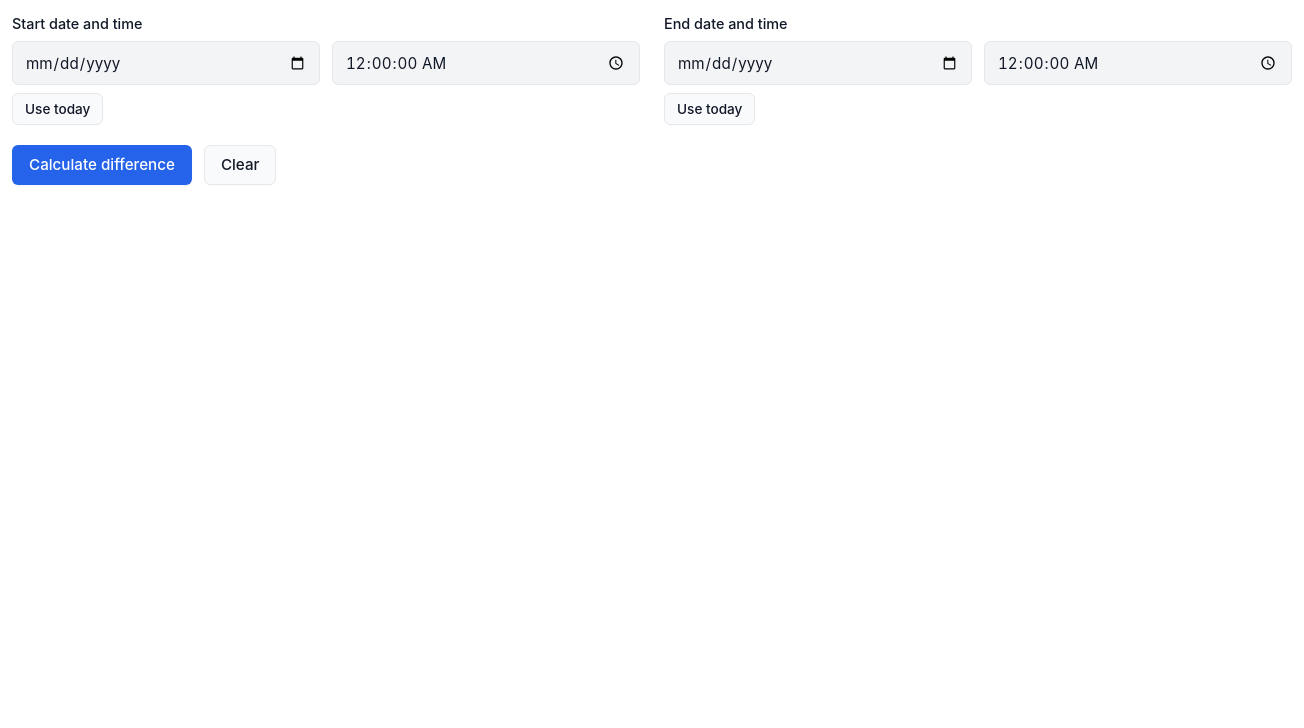
Scenario: Date Difference Calculator › is zero for the same date
Type "2026-09-21" into the date field named "Start date and time date".
click(166, 63); type("2026-09-21")  # box [12,41,320,85]
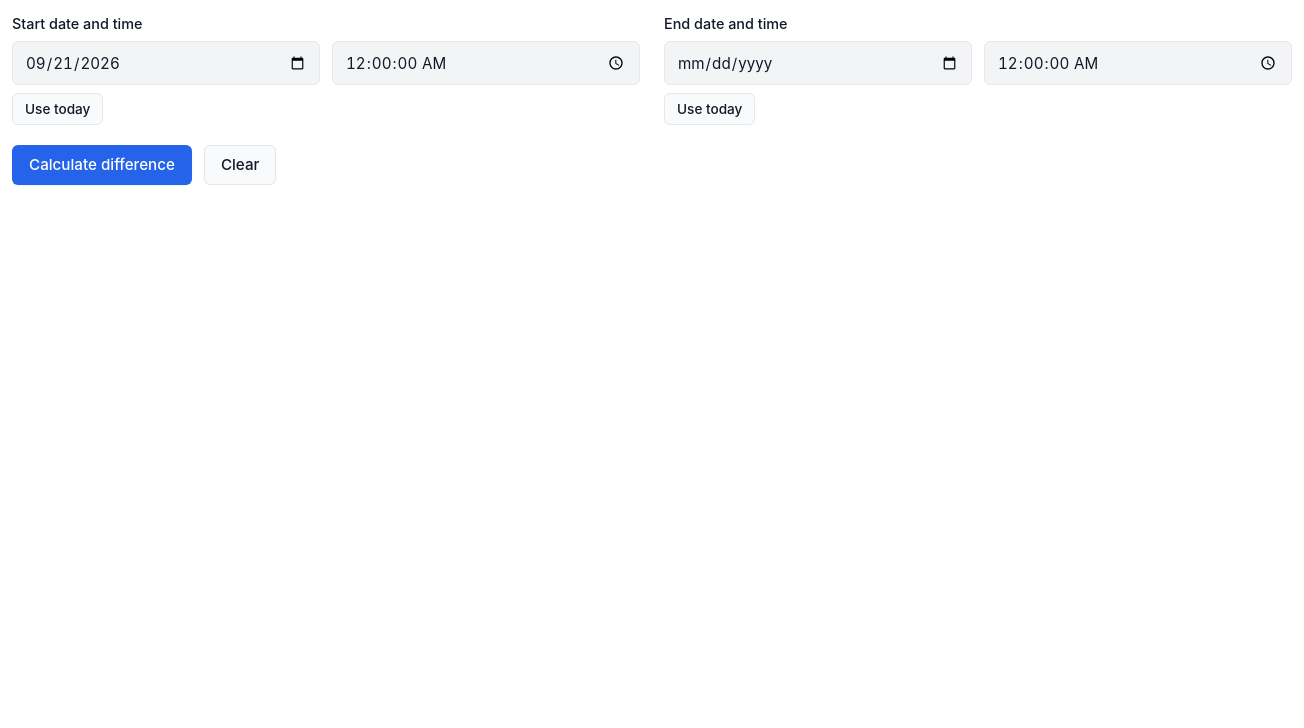
Type "2026-09-21" into the date field named "End date and time date".
click(818, 63); type("2026-09-21")  # box [664,41,972,85]
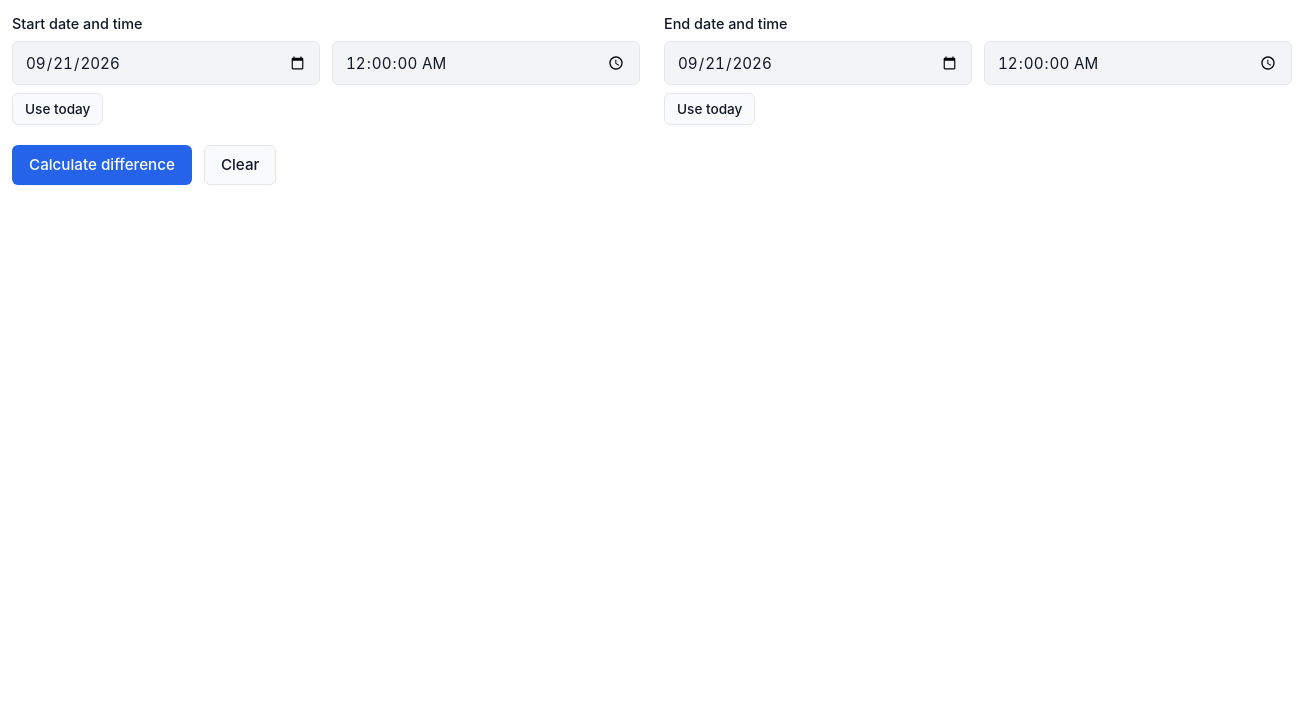
Click the button "Calculate difference".
click(102, 165)  # box [12,145,192,185]
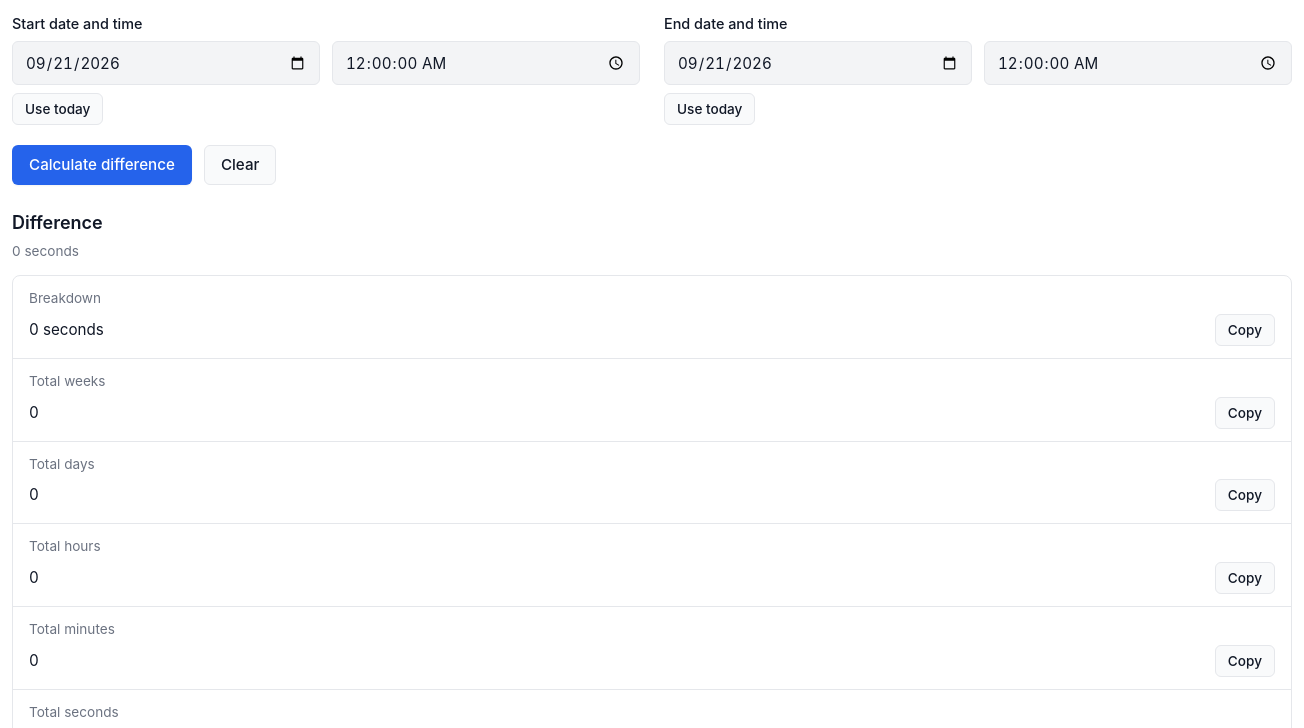
Now the 1st text "0 seconds" is shown, box [12,243,79,259]
